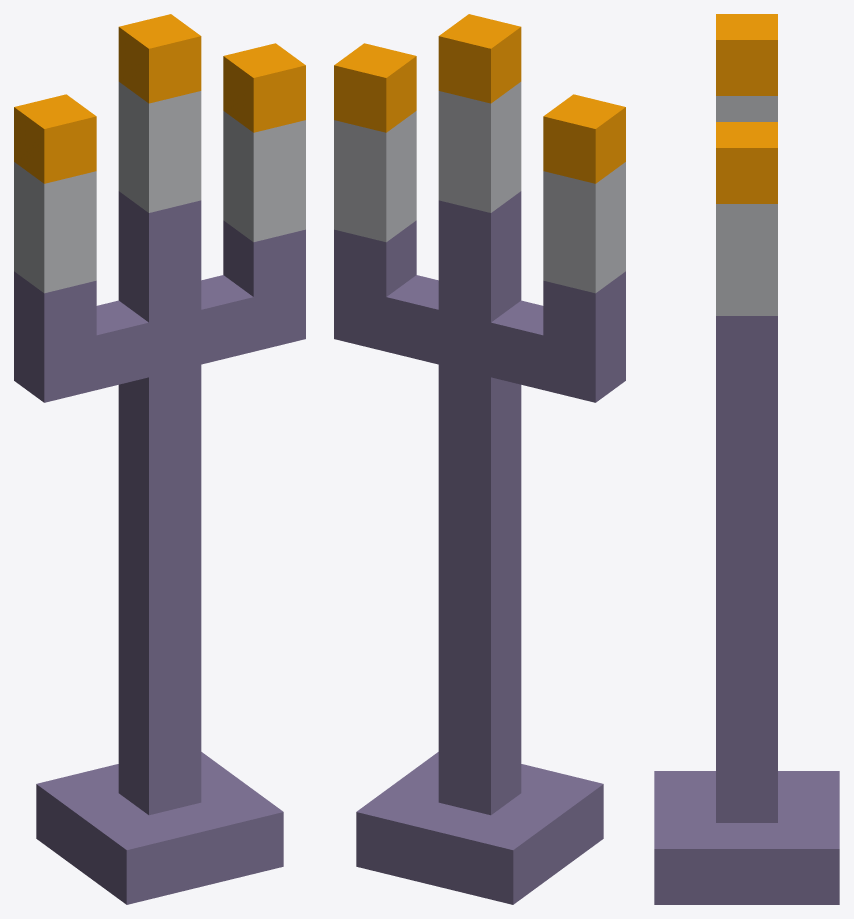
The model's file is large_candelabrum_a.obj.
3 views of the same model, side by side, from view 1: azimuth 30°, elevation 25°; view 2: azimuth 150°, elevation 25°; view 3: azimuth 270°, elevation 25° (orthographic). The views are drawn at different scales.
Bounding box in the file's own units: 0.5 × 1.5 × 0.3.
Materials: 1 (1 with a texture image).
